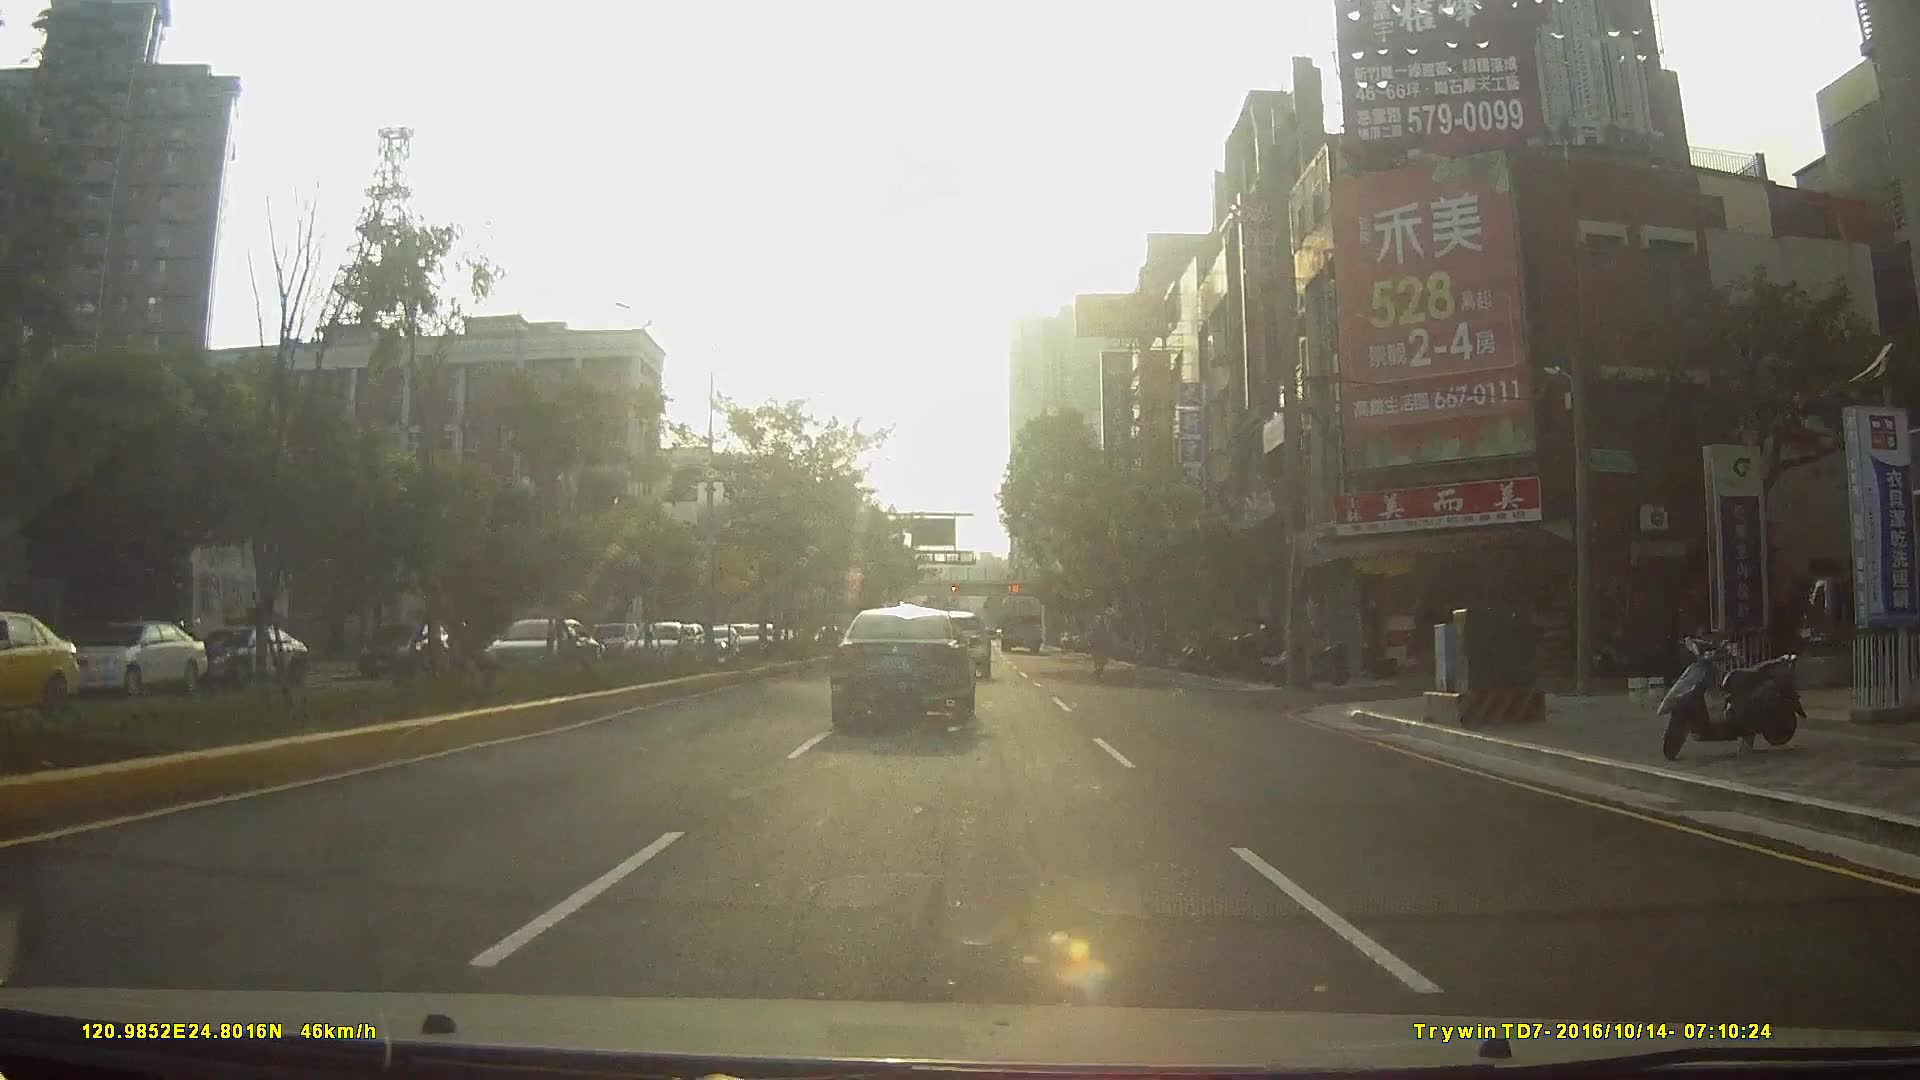vehicle: (829, 607, 977, 731), (44, 618, 199, 695), (1, 615, 88, 735), (178, 622, 302, 688), (465, 616, 591, 680), (349, 615, 448, 676), (612, 618, 694, 670), (998, 592, 1044, 654), (589, 621, 634, 662)
